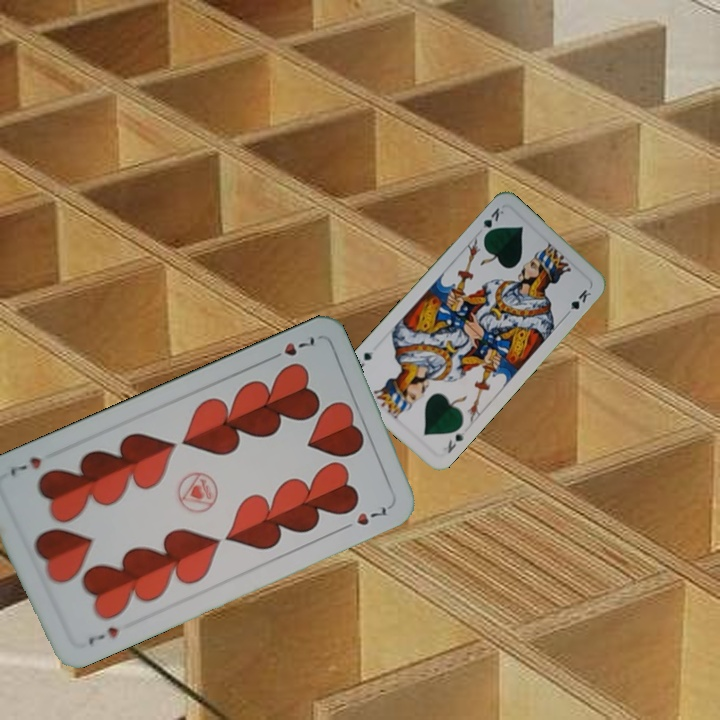GK: (478, 203, 506, 240), (443, 427, 468, 456)
H7: (264, 332, 318, 364), (84, 622, 121, 648)
